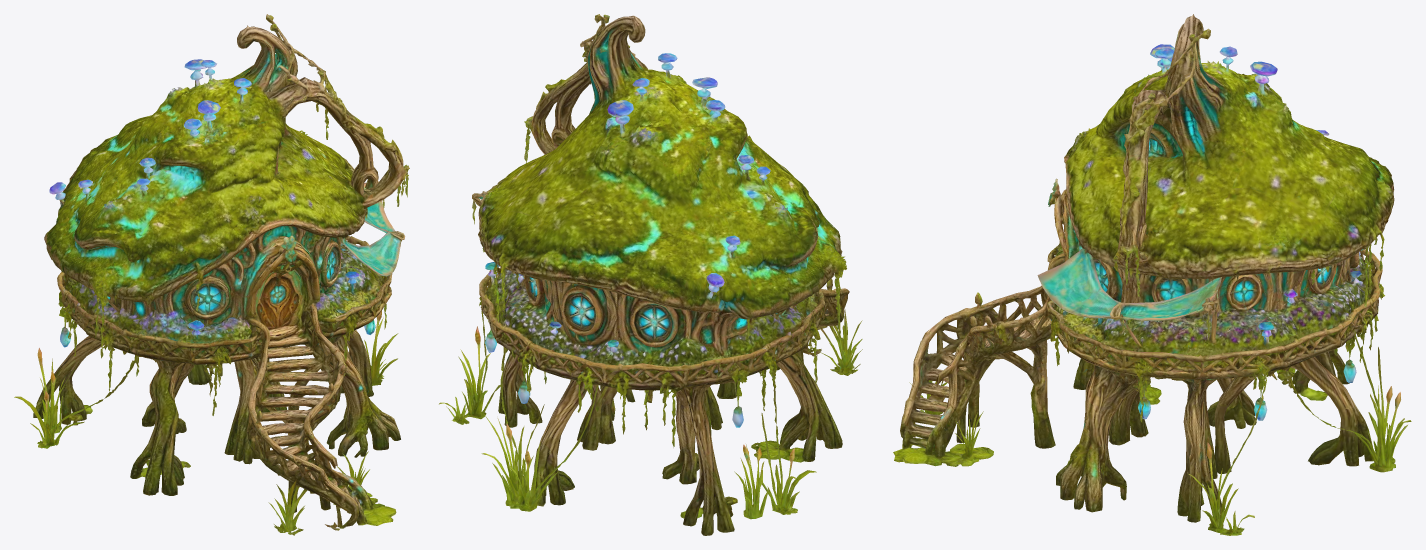
The model's file is stilt-dwelling.glb.
3 renders of one model, left to right at view 1: azimuth 30°, elevation 25°; view 2: azimuth 150°, elevation 25°; view 3: azimuth 270°, elevation 25°, orthographic. The views are drawn at different scales.
Bounding box in the file's own units: 1.64 × 1.84 × 1.9.
Materials: 1 (1 with a texture image).
